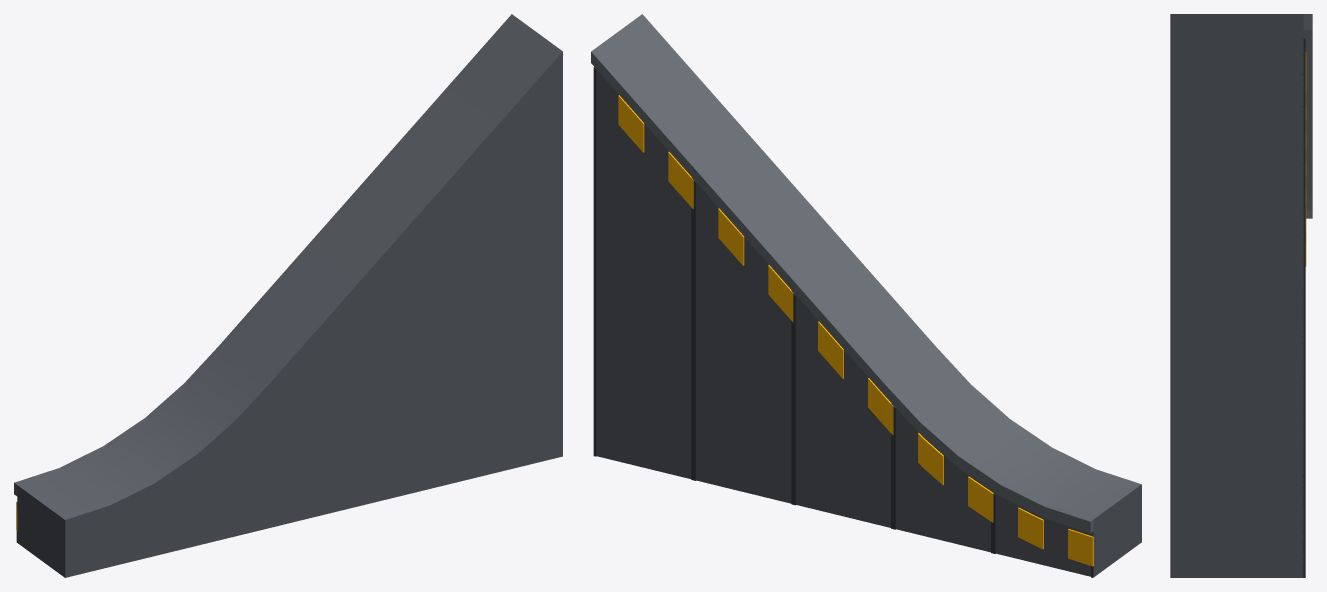
The picture shows the model from 3 angles, left to right: view 1: azimuth 30°, elevation 25°; view 2: azimuth 150°, elevation 25°; view 3: azimuth 270°, elevation 25°; orthographic projection. The views are drawn at different scales.
Parts seen in each view (by area): view 1: d3w; view 2: d3w; view 3: d3w.
Part boxes in pixels (x1,y1,x2,y2): d3w: (14, 14, 562, 577); d3w: (591, 14, 1141, 577); d3w: (1170, 14, 1312, 577).
Size of the model in its own units: 9 by 7 by 1.6.
